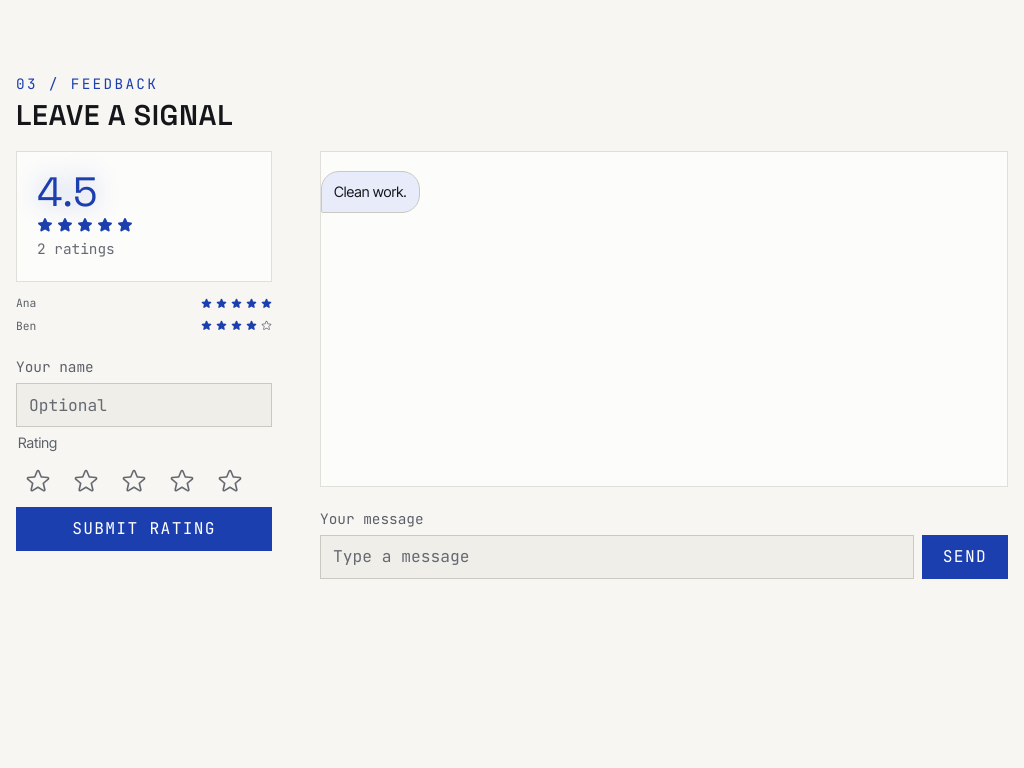
Test: CyberFeedback › sends a message and holds it on the stage
Check: the list item "Clean work." is shown, box [321,172,420,213]
Type "Nice portfolio" into the field labelled "Your message". click: (617, 557)
box: [320,535,914,579]
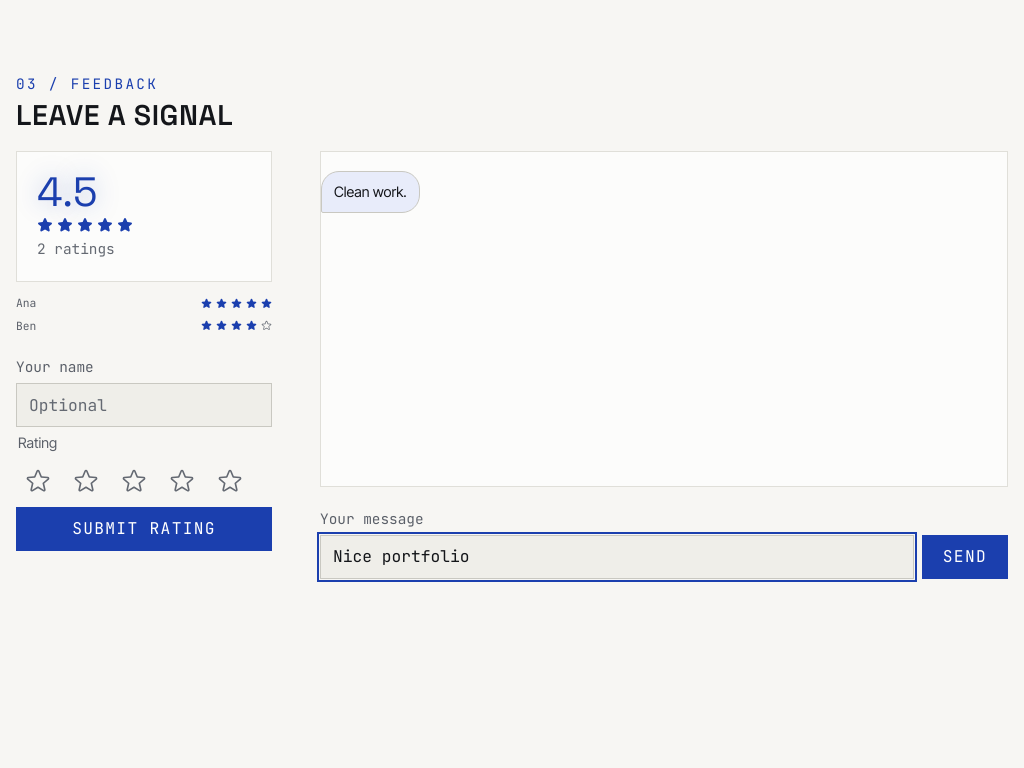
Click the button "Send". click: click(965, 557)
box: [922,535,1008,579]
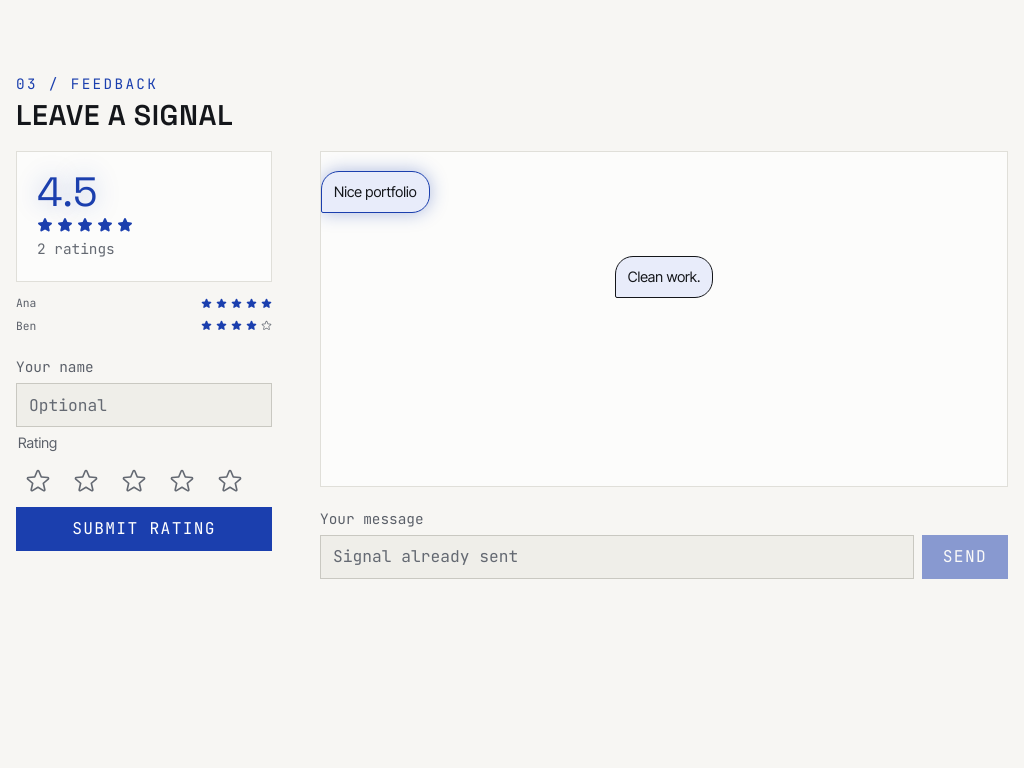
Check: the list item "Nice portfolio" is shown, box [321,172,430,213]
